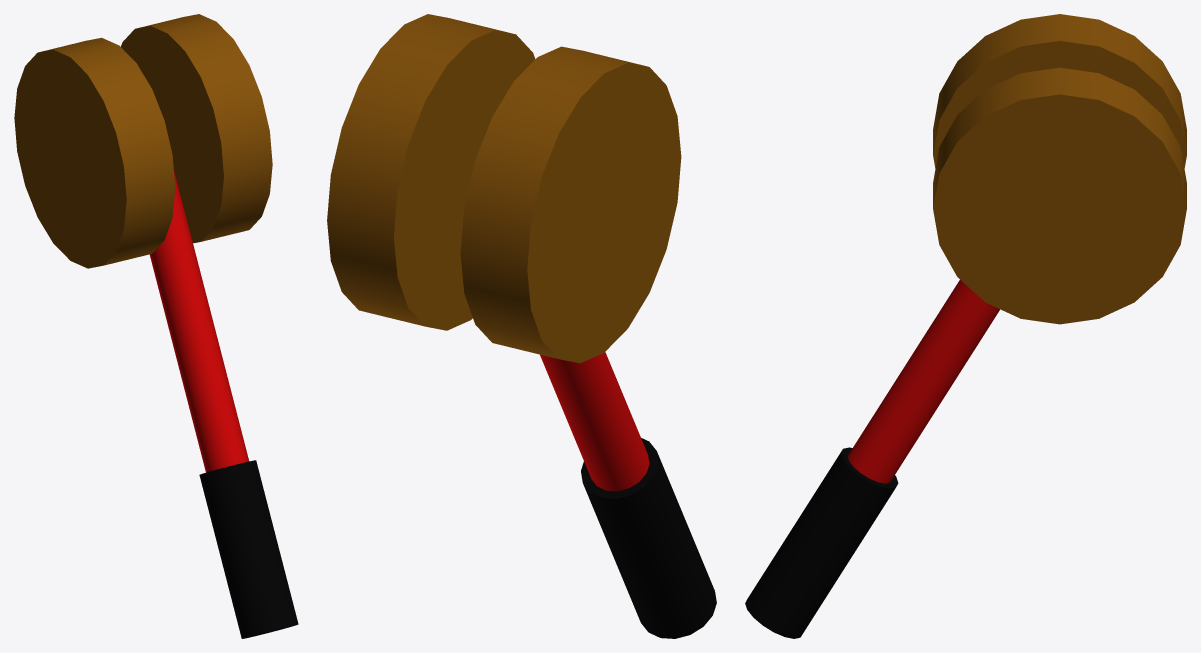
The model's file is PullSwitch3DS.fbx.
3 views of the same model, side by side, from view 1: azimuth 30°, elevation 25°; view 2: azimuth 150°, elevation 25°; view 3: azimuth 270°, elevation 25° (orthographic). The views are drawn at different scales.
Parts seen in each view (by area): view 1: pCylinder4, pCylinder1, pCylinder2, pCylinder3; view 2: pCylinder4, pCylinder1, pCylinder3, pCylinder2; view 3: pCylinder1, pCylinder4, pCylinder3, pCylinder2.
Part boxes in pixels (<box>): pCylinder4: <box>14,37,175,268</box>; pCylinder1: <box>121,14,272,243</box>; pCylinder2: <box>149,169,248,472</box>; pCylinder3: <box>199,460,298,638</box>; pCylinder4: <box>460,46,681,363</box>; pCylinder1: <box>327,14,535,330</box>; pCylinder3: <box>581,438,716,638</box>; pCylinder2: <box>540,352,649,491</box>; pCylinder1: <box>933,67,1186,324</box>; pCylinder4: <box>933,14,1186,168</box>; pCylinder3: <box>745,447,898,638</box>; pCylinder2: <box>847,280,999,483</box>.
Bounding box in the file's own units: 0.5906 × 1.98 × 1.37.
